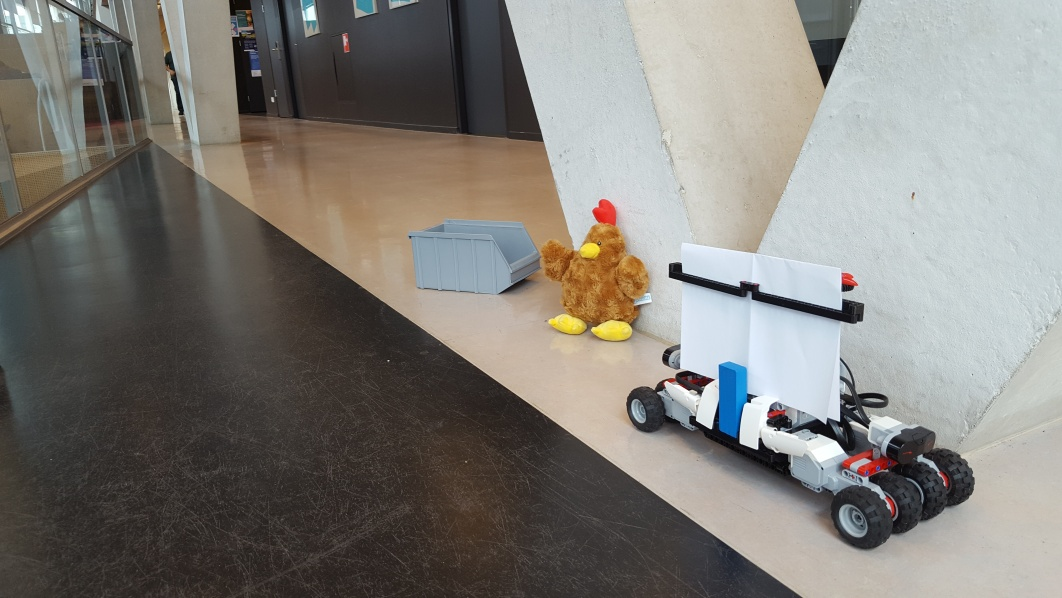beam: (716, 360, 745, 441)
chicken: (543, 199, 650, 341)
tray: (409, 217, 542, 296)
